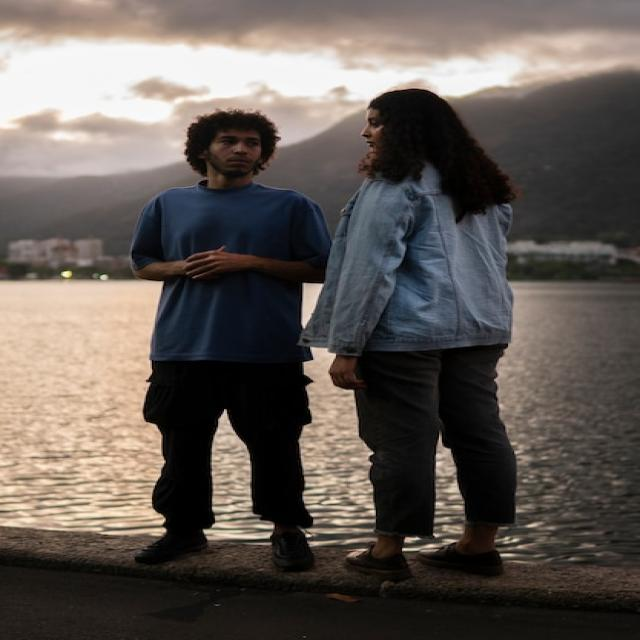Person: (303, 88, 516, 575), (130, 110, 332, 574)
